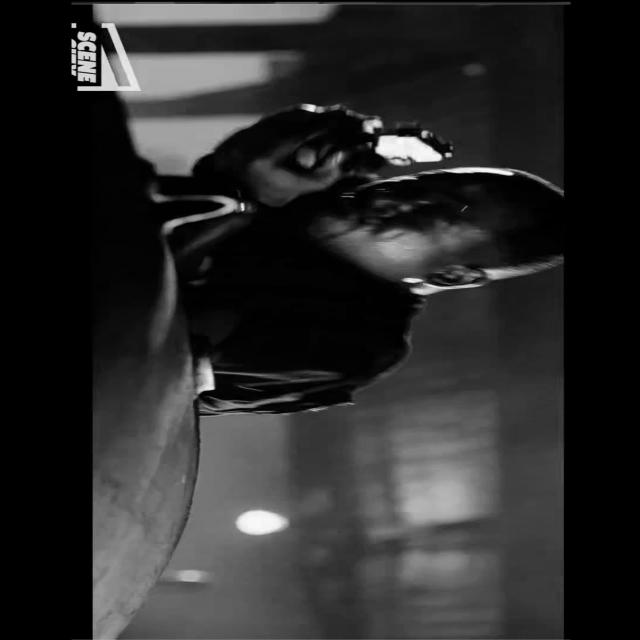weapons: (290, 109, 483, 176)
